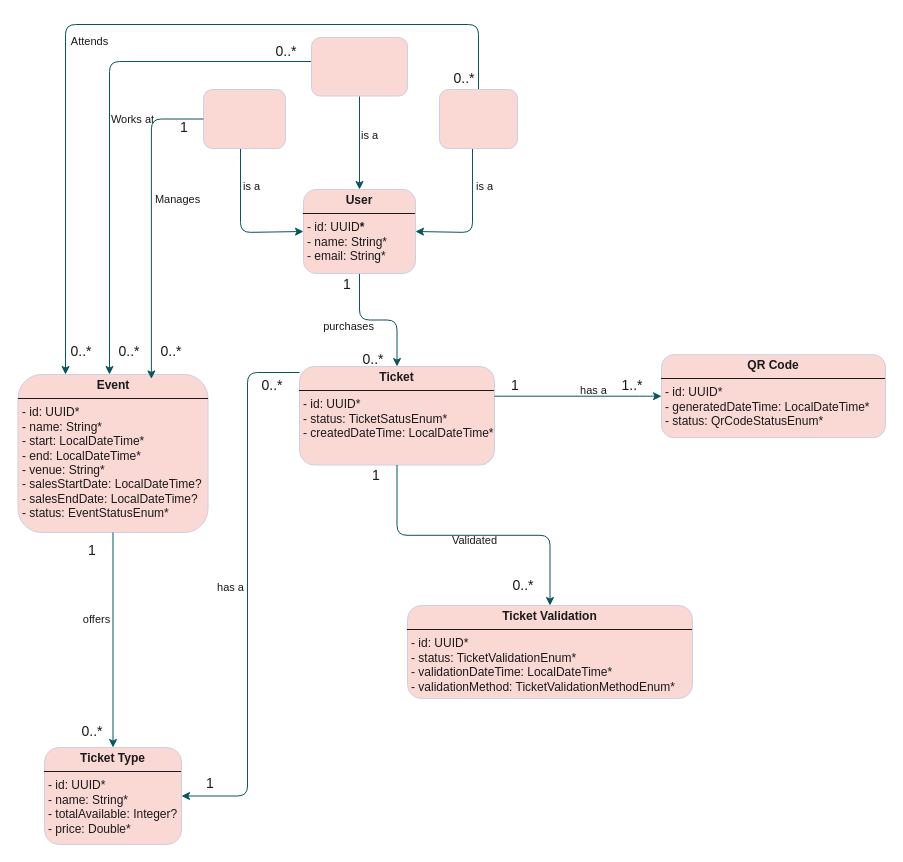
Image size: 903x862. Some labels were removed from this diagram. Here are the shapes that lost their labels. From the top down, the centre of each, then its label:
point (359, 66): Staff
point (244, 118): Organizer
point (478, 118): Attendee
